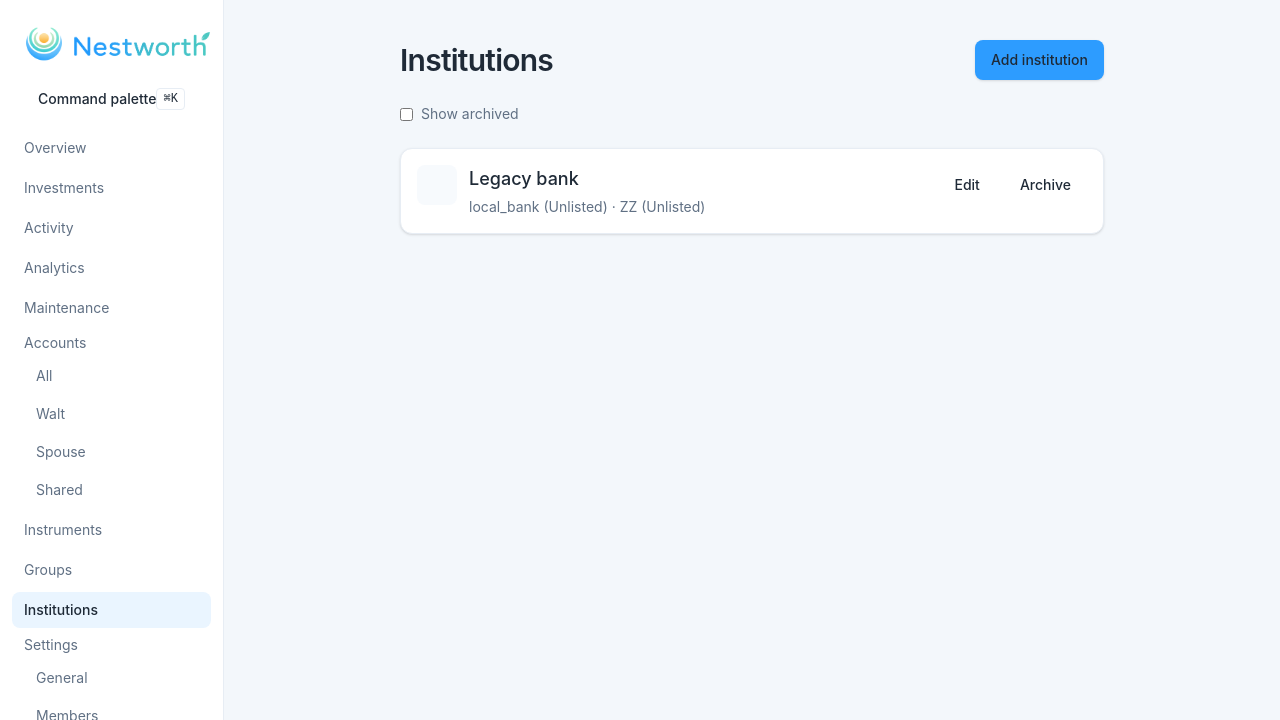
Test: institutions page › marks legacy type and country values and requires replacement before saving
The image size is (1280, 720).
Check: the navigation bar named "Household" is shown, box [0,0,224,719]
Click the link "Institutions". click: (112, 610)
box: [12,592,211,628]
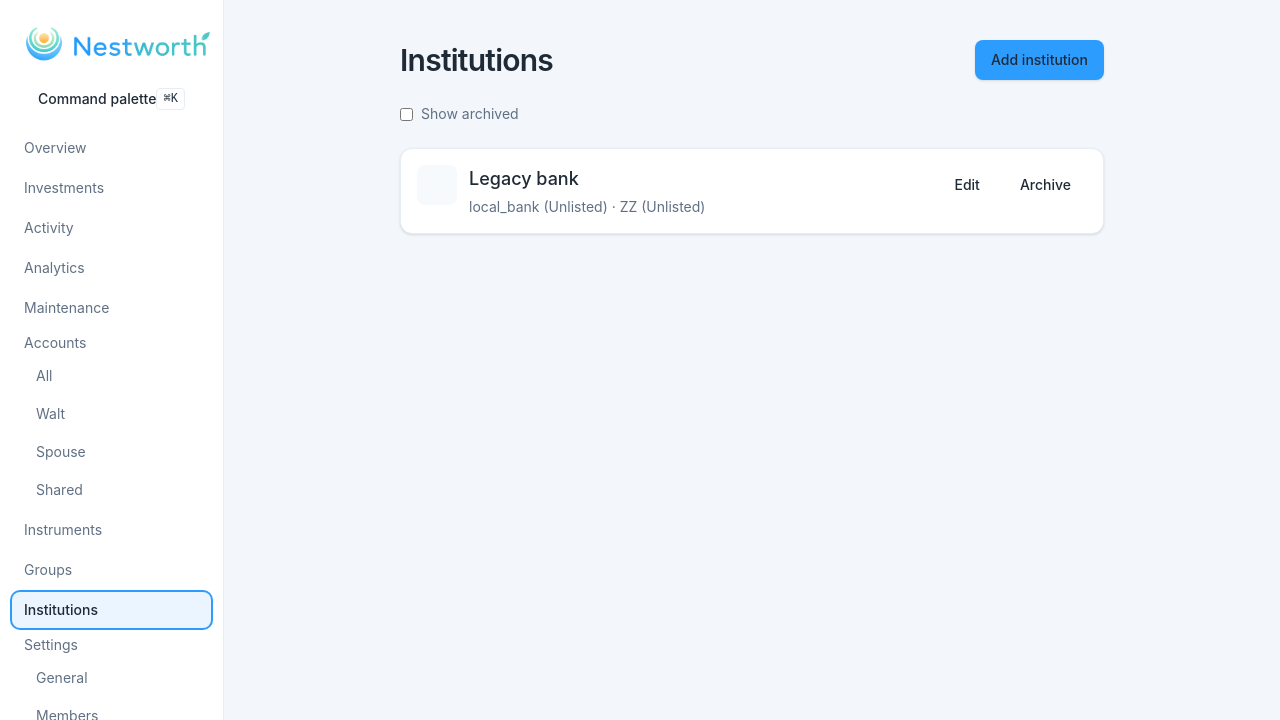
Check: the heading "Legacy bank" is shown, box [469,168,579,189]
Check: the text "local_bank (Unlisted) · ZZ (Unlisted)" is shown, box [469,197,706,217]
Click the button "Edit". click: (967, 185)
box: [938,165,996,205]
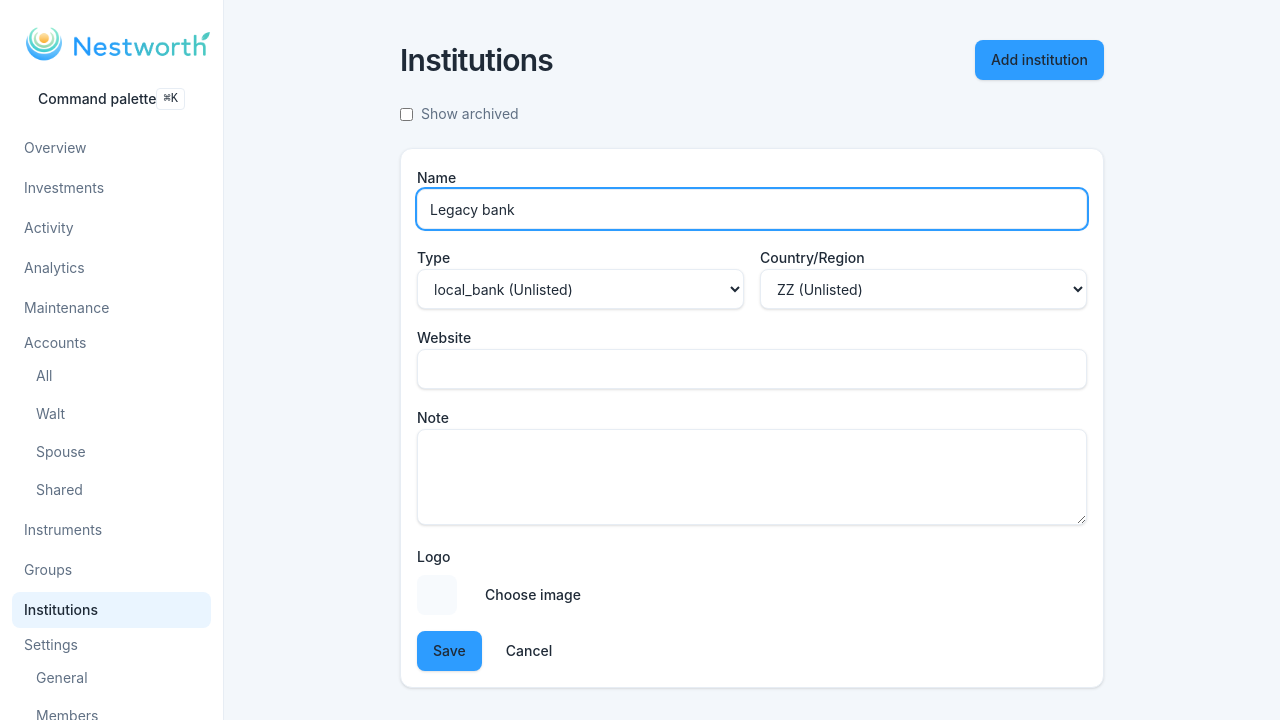
Click the button "Save". click: (449, 651)
box: [417,631,482,671]
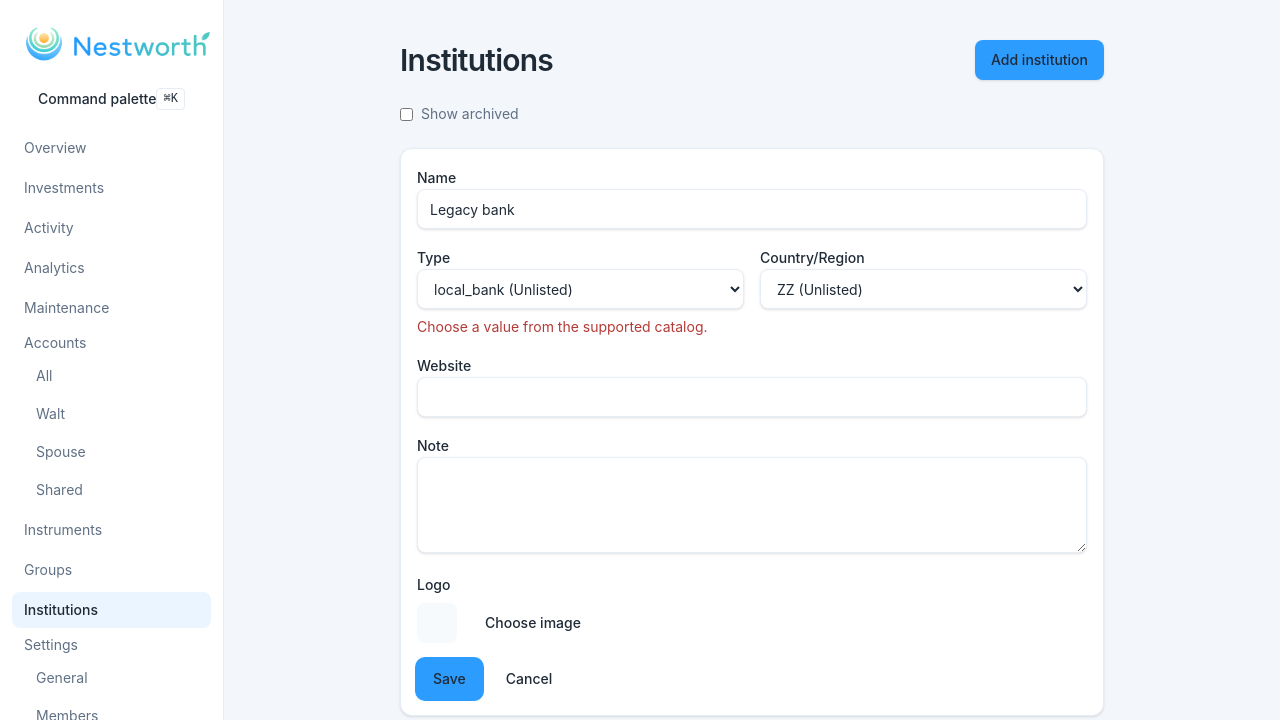
Check: the text "Choose a value from the supported catalog." is shown, box [417,317,744,337]
